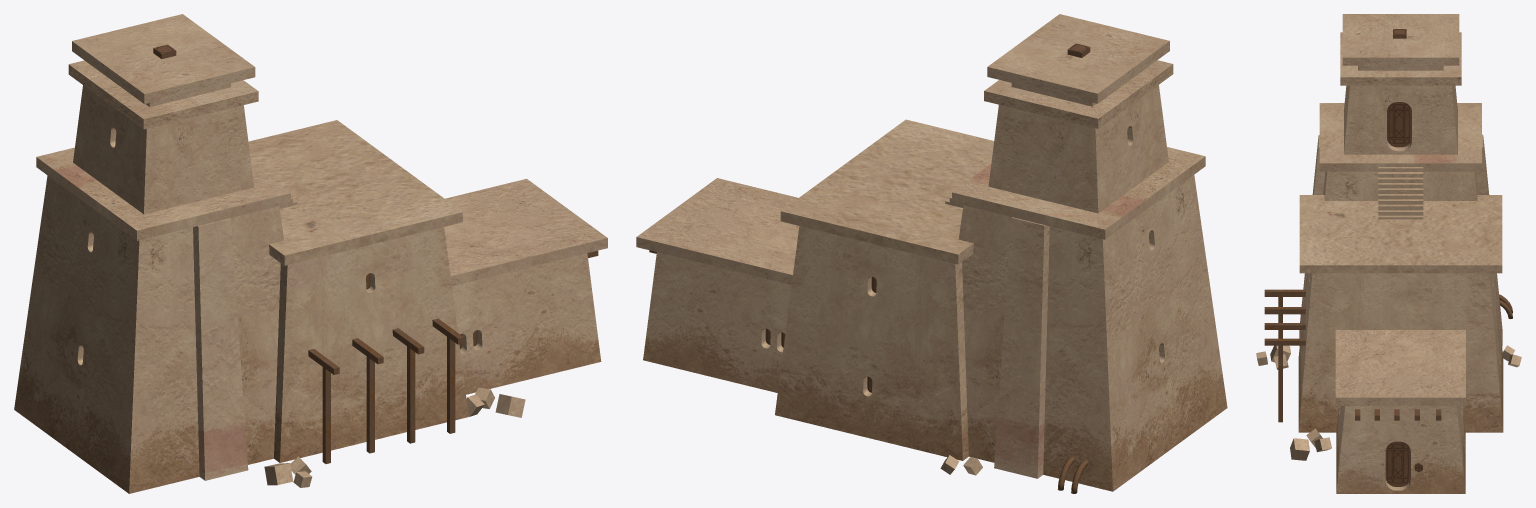
Rendered from Edificio 3.fbx.
The picture shows the model from 3 angles, left to right: view 1: azimuth 30°, elevation 25°; view 2: azimuth 150°, elevation 25°; view 3: azimuth 270°, elevation 25°; orthographic projection. The views are drawn at different scales.
Parts seen in each view (by area): view 1: building5; view 2: building5; view 3: building5.
Boxes of the visible parts, <box> form: building5: <box>14,14,607,493</box>; building5: <box>636,14,1227,493</box>; building5: <box>1256,14,1521,493</box>.
Bounding box in the file's own units: 2057 × 1551 × 1180.
